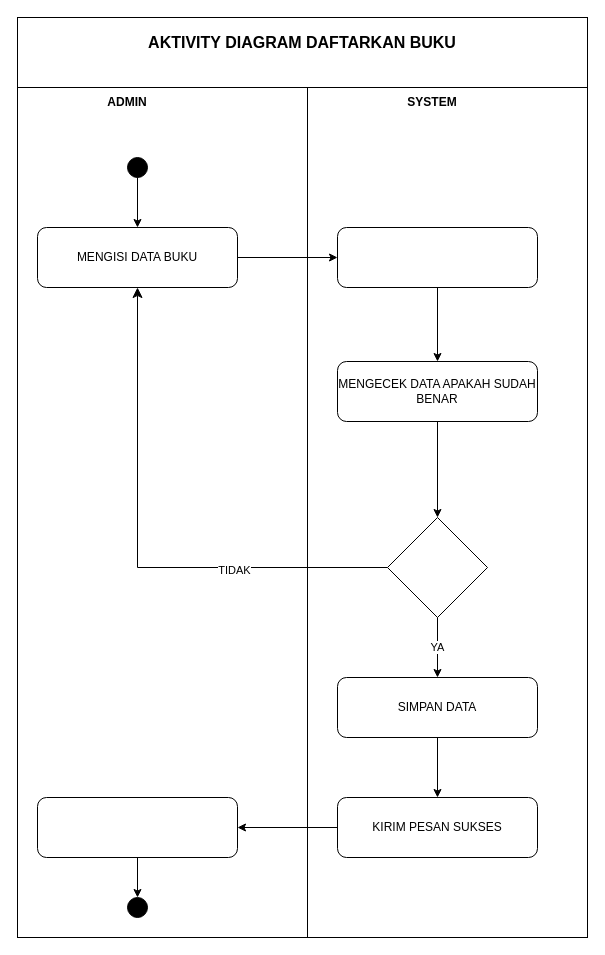
The diagram is 605 pixels wide and 955 high, and some of its shapes have lost their labels. The centre of each missing label's shape, as x and y in pixels:
MENERIMA DATA: the point at 437,257
MENERIMA PESAN SUKSES: the point at 137,827
